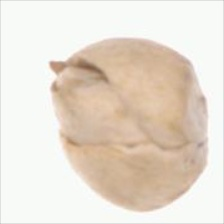L3: (49, 59, 143, 147)
L4: (49, 38, 208, 211)
